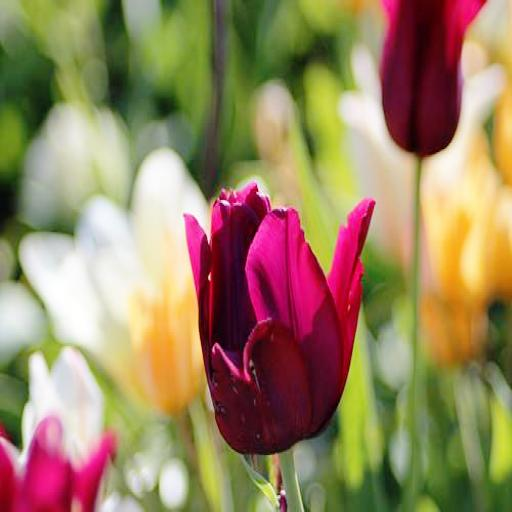tulip: (182, 171, 376, 458)
